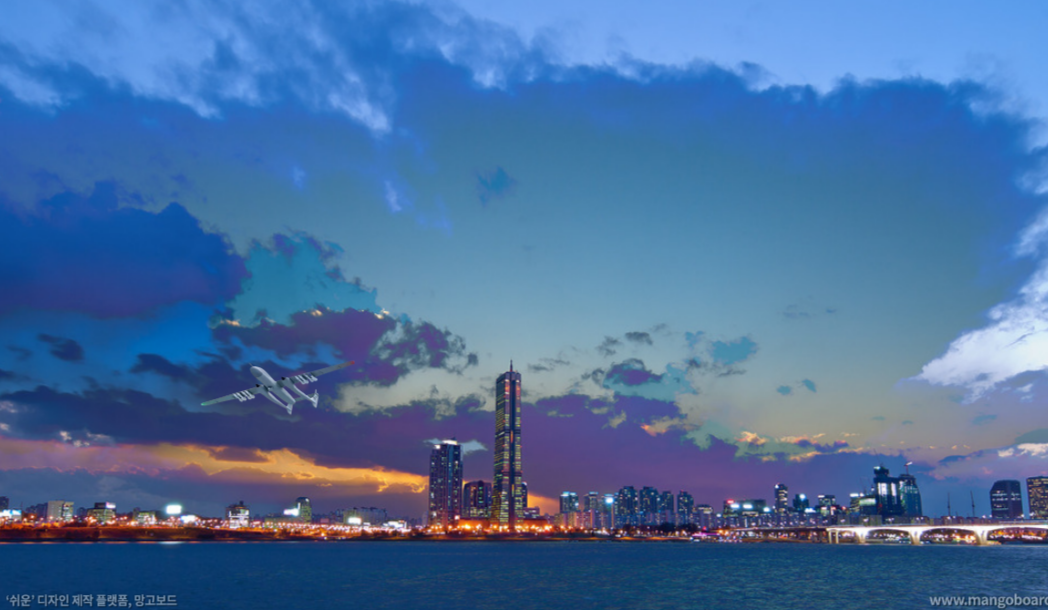military drone: (201, 360, 355, 416)
